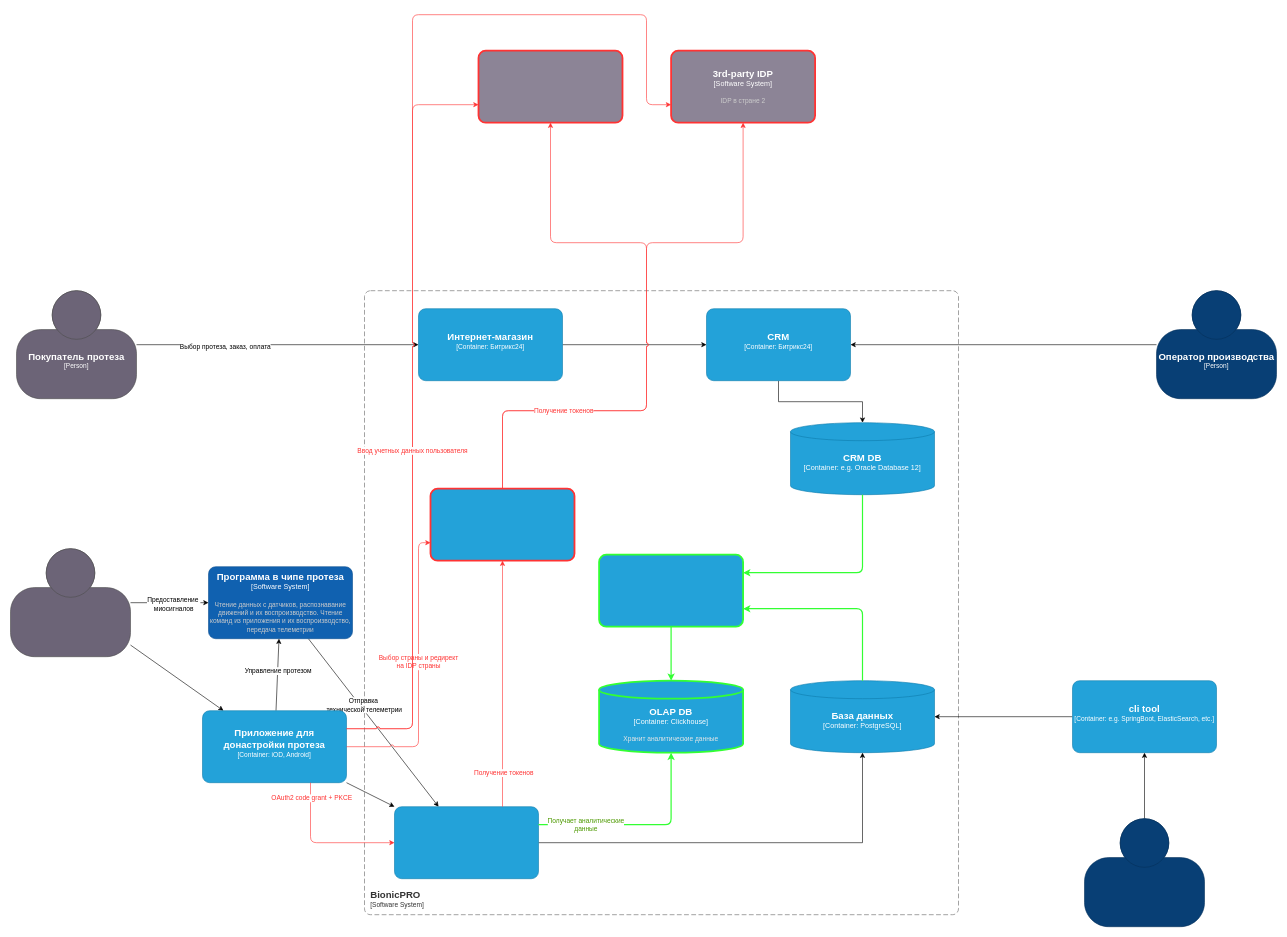
The diagram is 1287 pixels wide and 937 high, and some of its shapes have lost their labels. Here are the shapes that lost their labels. From the top down, the centre of each, then its label:
pixel 550 86: 3rd-party IDP [Software System] IDP в стране 1
pixel 502 524: IDP [Container: Keycloak]
pixel 70 602: Пилот протеза [Person] С этого человека считываются данные
pixel 671 590: ETL pipeline [Container: Airflow] Собирает и трансформирует данные из баз данных
pixel 466 842: API [Container: e.g. SpringBoot, ElasticSearch, etc.]
pixel 1144 872: ML-инженер [Person]
